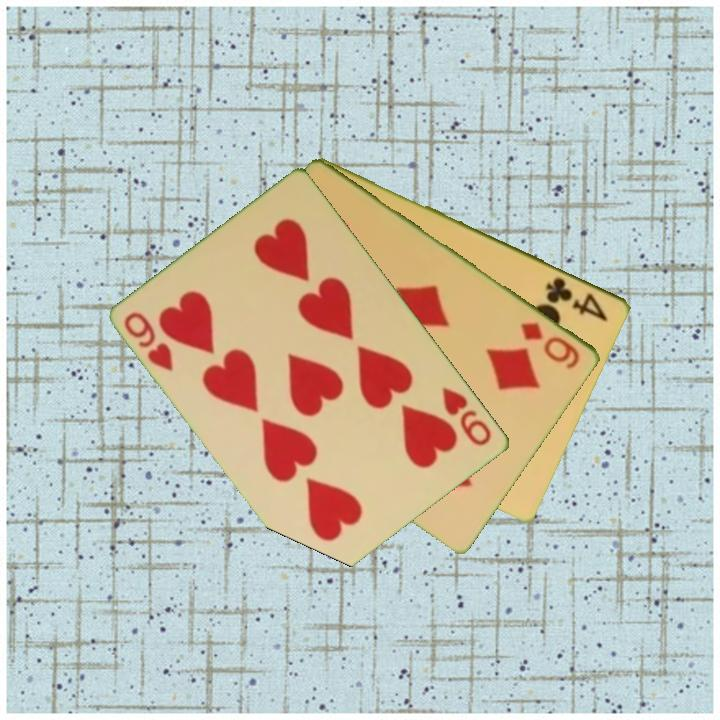4c: (542, 273, 611, 324)
6d: (517, 318, 584, 372)
9h: (121, 308, 177, 375), (439, 383, 495, 449)
